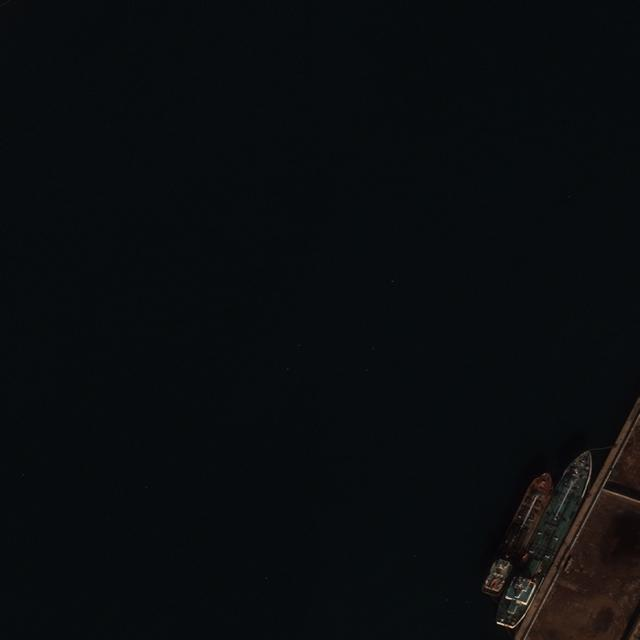Oil Tanker: (489, 442, 606, 635), (473, 465, 561, 601)
